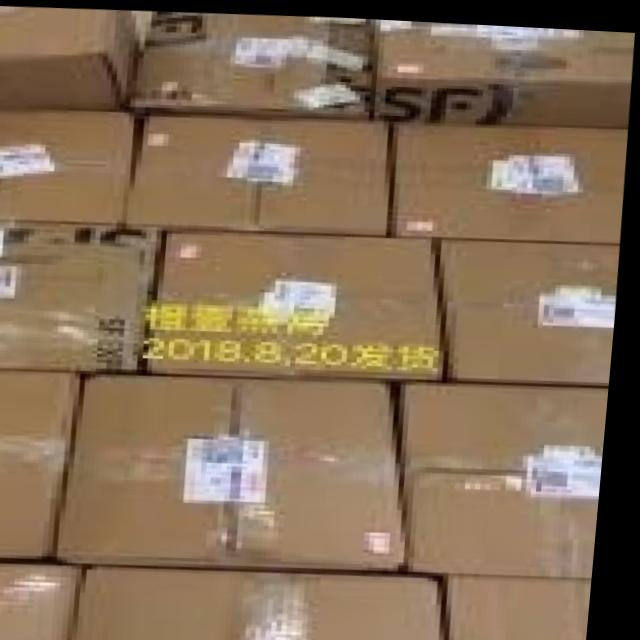box: (67, 369, 418, 569), (148, 225, 453, 375), (402, 376, 615, 570), (125, 114, 395, 230), (79, 562, 458, 640), (390, 117, 629, 239), (370, 15, 634, 122), (440, 234, 623, 378), (126, 9, 370, 113), (0, 221, 166, 370), (0, 110, 146, 224), (0, 370, 87, 561), (0, 6, 140, 110), (453, 570, 602, 640), (0, 561, 92, 640)
